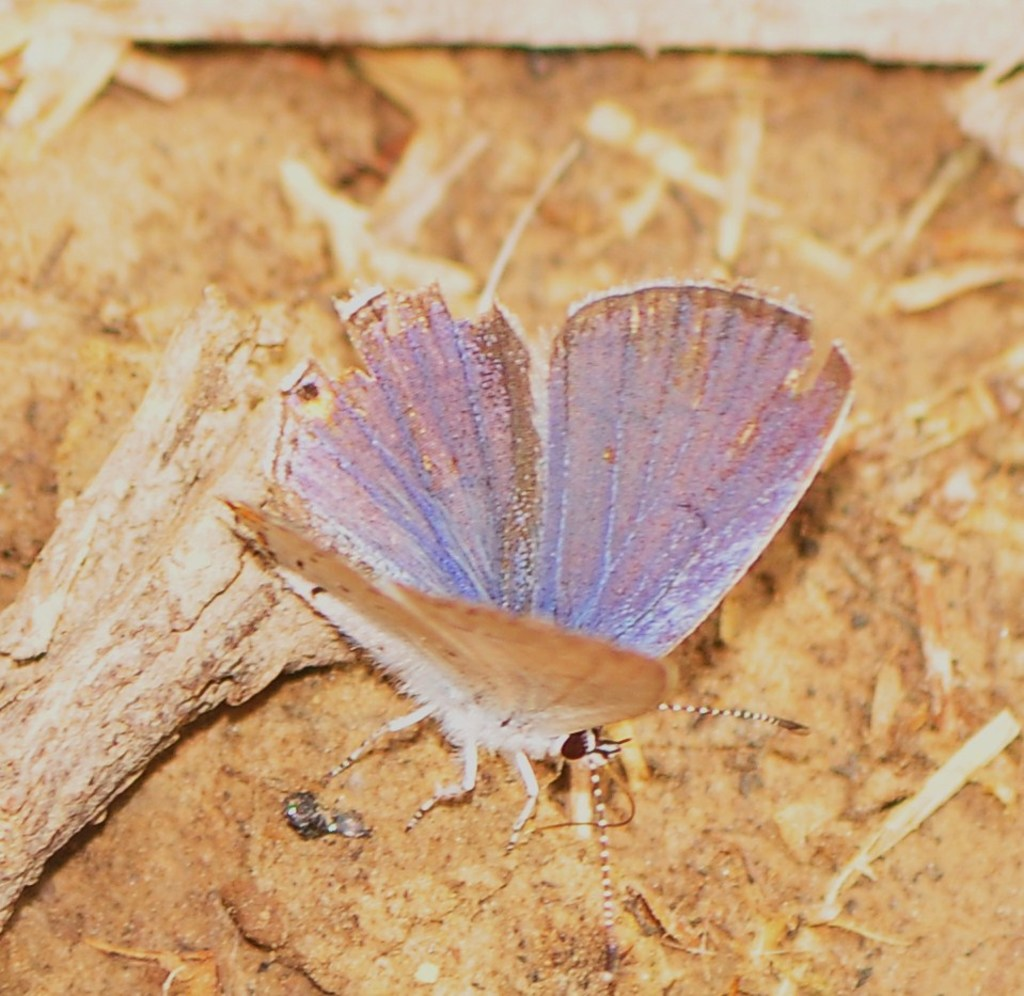Butterfly: (214, 275, 864, 809)
